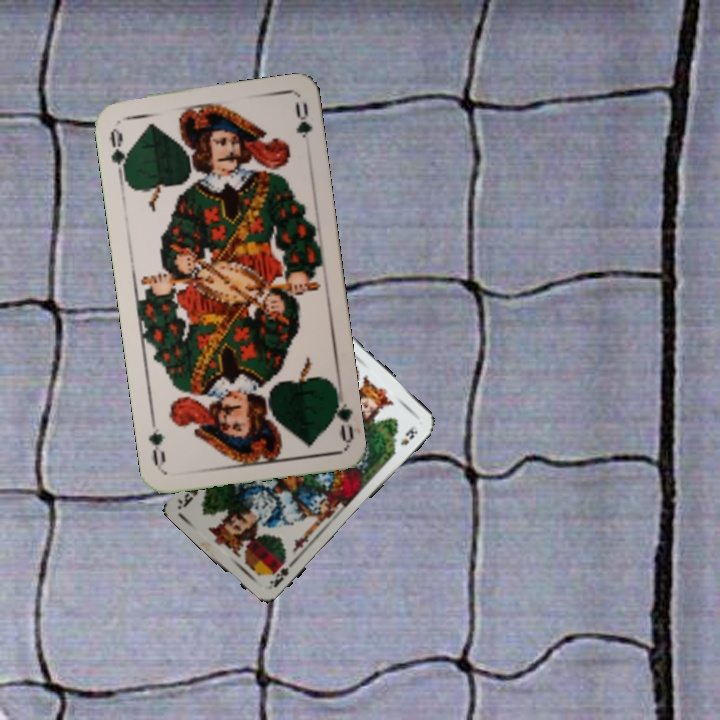GO: (327, 385, 357, 444), (105, 124, 131, 181)
SK: (265, 556, 291, 590)
